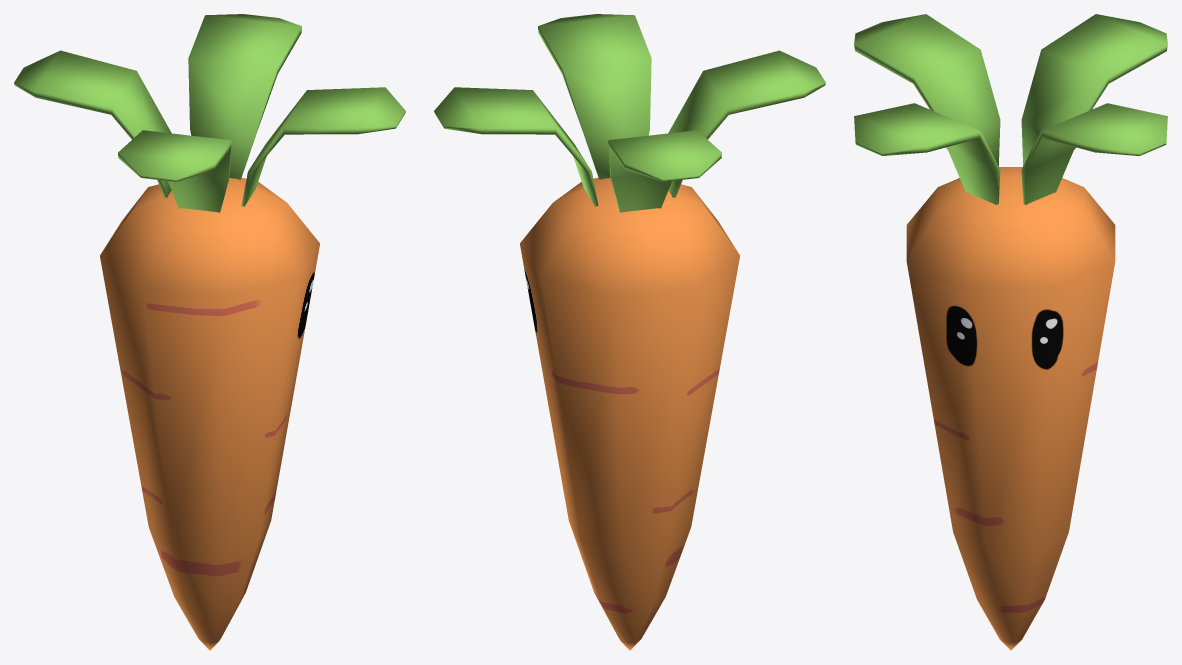
Rendered from Carrot.fbx.
3 views of the same model, side by side, from view 1: azimuth 30°, elevation 25°; view 2: azimuth 150°, elevation 25°; view 3: azimuth 270°, elevation 25° (orthographic).
Visible parts, largest first — view 1: Cylinder; view 2: Cylinder; view 3: Cylinder.
Part boxes in pixels (left/top/right/bottom): Cylinder: left=14, top=14, right=405, bottom=650; Cylinder: left=434, top=14, right=825, bottom=650; Cylinder: left=854, top=14, right=1167, bottom=650.
Size of the model in its own units: 24.16 by 48.48 by 24.16.
1 material, 1 textured.
